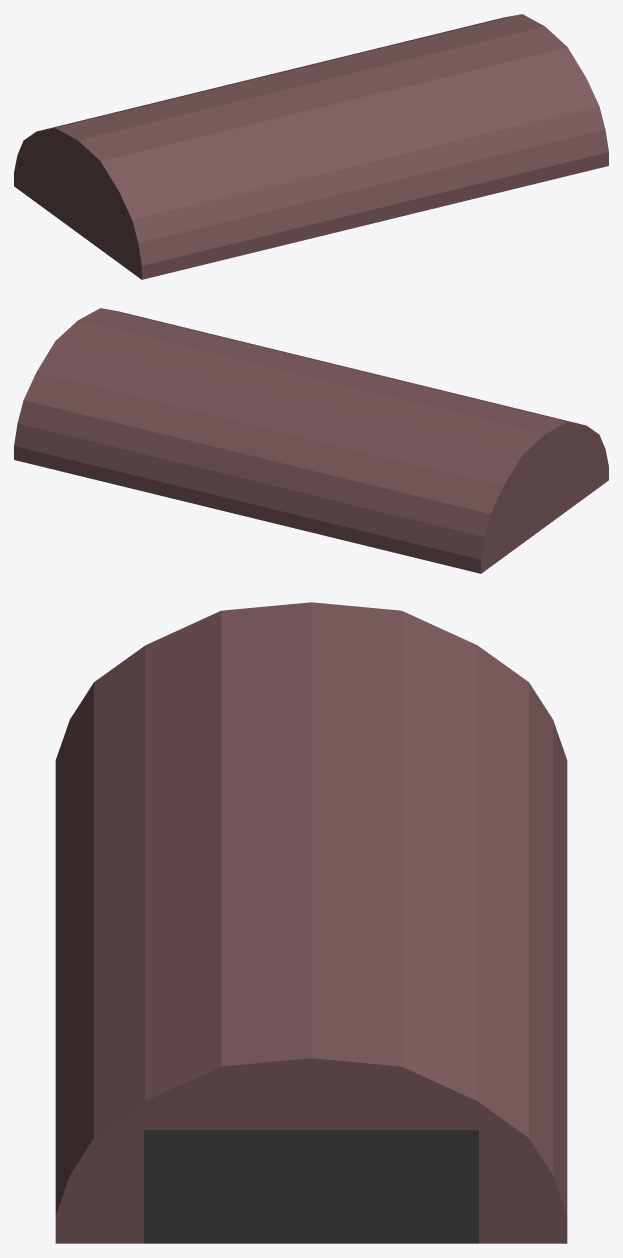
Rendered from hangar.fbx.
The picture shows the model from 3 angles, top to bottom: view 1: azimuth 30°, elevation 25°; view 2: azimuth 150°, elevation 25°; view 3: azimuth 270°, elevation 25°; orthographic projection. The views are drawn at different scales.
Parts seen in each view (by area): view 1: Cube; view 2: Cube; view 3: Cube.
Boxes of the visible parts, x1,y1,x2,y2 form: Cube: [14, 14, 608, 279]; Cube: [14, 308, 608, 573]; Cube: [55, 602, 567, 1243].
Size of the model in its own units: 7791 by 1478 by 3693.
